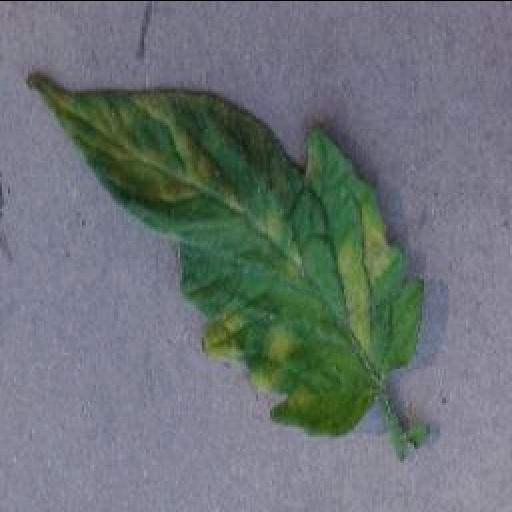disease_tomato: (24, 76, 422, 436)
